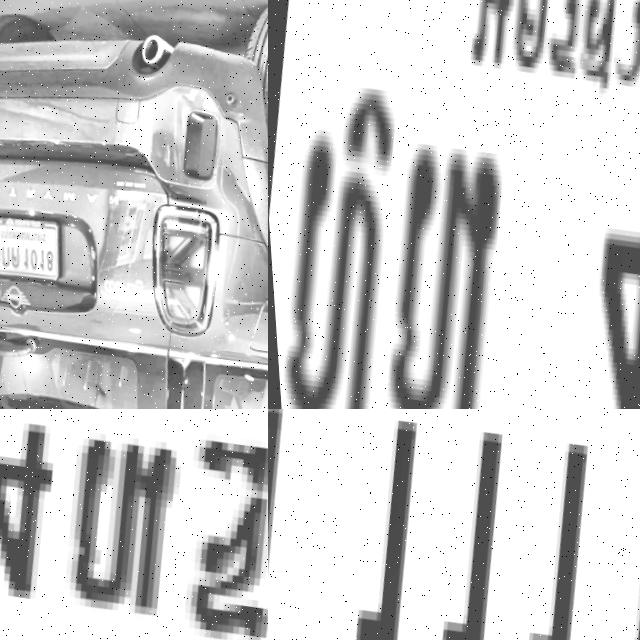license-plate: (268, 0, 640, 409), (268, 409, 640, 640), (0, 409, 268, 640), (0, 202, 69, 291)
